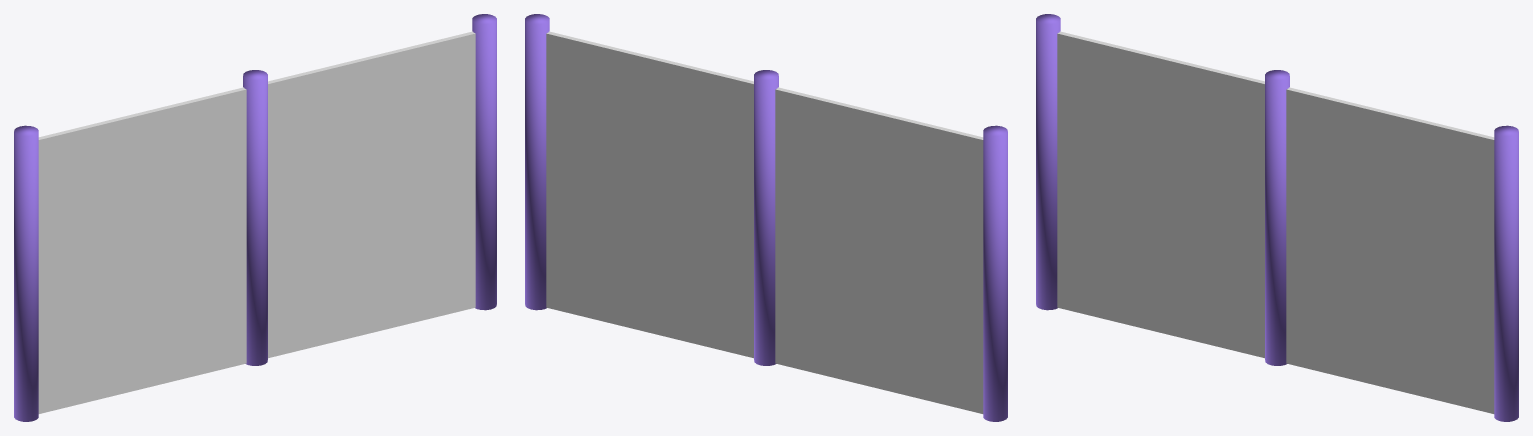
Rendered from door.fbx.
3 renders of one model, left to right at view 1: azimuth 30°, elevation 25°; view 2: azimuth 150°, elevation 25°; view 3: azimuth 330°, elevation 25°, orthographic.
Parts seen in each view (by area): view 1: door, door.001, pole.002, pole, pole.001; view 2: door, door.001, pole.002, pole, pole.001; view 3: door.001, door, pole, pole.002, pole.001.
Part boxes in pixels (box(x1,y1,x2,y2)): door: box(38, 87, 246, 413); door.001: box(268, 31, 475, 358); pole.002: box(14, 125, 38, 421); pole: box(472, 14, 496, 310); pole.001: box(243, 70, 267, 365); door: box(775, 87, 983, 413); door.001: box(546, 31, 753, 358); pole.002: box(983, 125, 1007, 421); pole: box(525, 14, 549, 310); pole.001: box(754, 70, 778, 365); door.001: box(1286, 87, 1494, 413); door: box(1057, 31, 1264, 358); pole: box(1494, 125, 1518, 421); pole.002: box(1036, 14, 1060, 310); pole.001: box(1265, 70, 1289, 365).
Bounding box in the file's own units: 586 × 333 × 26.33.
